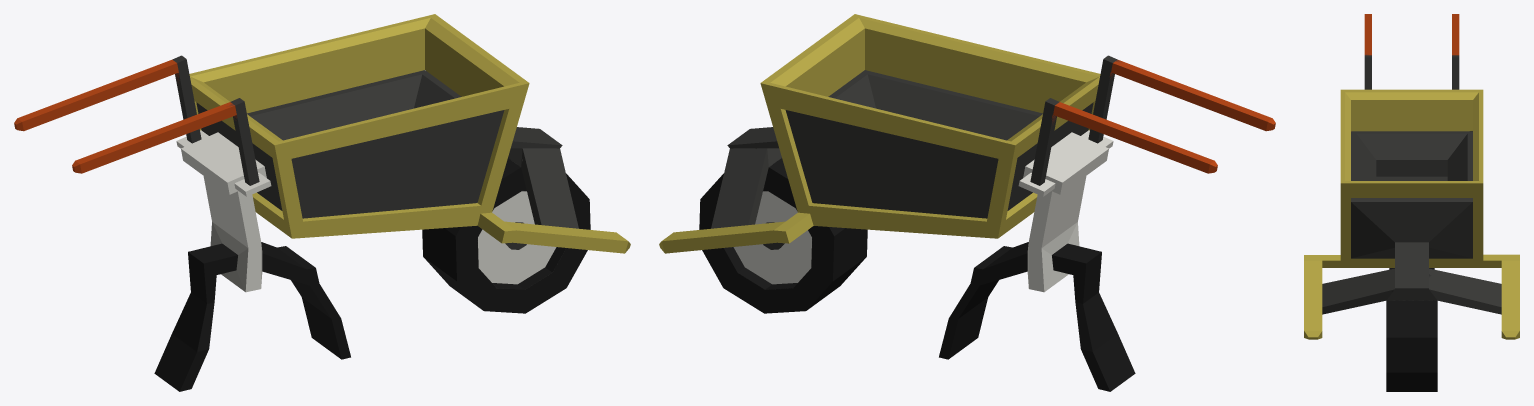
The model's file is CarrinhoMao.fbx.
3 renders of one model, left to right at view 1: azimuth 30°, elevation 25°; view 2: azimuth 150°, elevation 25°; view 3: azimuth 270°, elevation 25°, orthographic. The views are drawn at different scales.
Parts seen in each view (by area): view 1: CarrinhoMao; view 2: CarrinhoMao; view 3: CarrinhoMao.
Part boxes in pixels (x1,y1,x2,y2): CarrinhoMao: (14,14,630,391); CarrinhoMao: (659,14,1275,391); CarrinhoMao: (1304,14,1519,391).
Bounding box in the file's own units: 1260 × 677 × 589.
